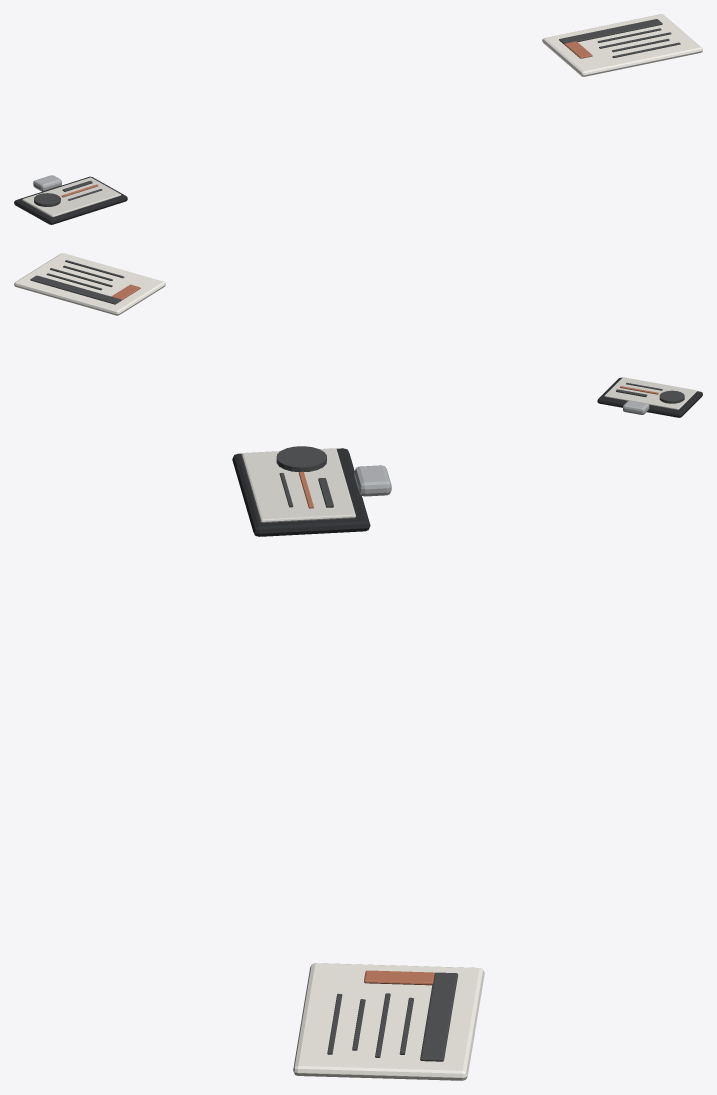
File: peter-interaction-props.glb
The picture shows the model from 3 angles, top to bottom: view 1: azimuth 30°, elevation 25°; view 2: azimuth 150°, elevation 25°; view 3: azimuth 270°, elevation 25°; orthographic projection. The views are drawn at different scales.
Parts seen in each view (by area): view 1: Resume_Base, Badge_Face, Badge_Base, Resume_Header; view 2: Resume_Base, Badge_Face, Badge_Base, Resume_Header, Badge_Clip, Badge_Portrait; view 3: Resume_Base, Badge_Face, Badge_Base, Resume_Header, Badge_Portrait, Badge_Clip.
Part boxes in pixels (x1,y1,x2,y2): Resume_Base: [542, 14, 702, 76]; Badge_Face: [22, 177, 121, 217]; Badge_Base: [14, 176, 127, 224]; Resume_Header: [559, 19, 662, 44]; Resume_Base: [14, 253, 165, 315]; Badge_Face: [604, 377, 696, 409]; Badge_Base: [597, 377, 702, 417]; Resume_Header: [30, 275, 121, 304]; Badge_Clip: [623, 400, 649, 414]; Badge_Portrait: [659, 390, 684, 403]; Resume_Base: [293, 963, 484, 1080]; Badge_Face: [241, 448, 355, 522]; Badge_Base: [232, 448, 370, 536]; Resume_Header: [420, 972, 457, 1061]; Badge_Portrait: [276, 446, 326, 471]; Badge_Clip: [354, 465, 391, 496].
Bounding box in the file's own units: 3.37 × 0.06 × 0.5769.
